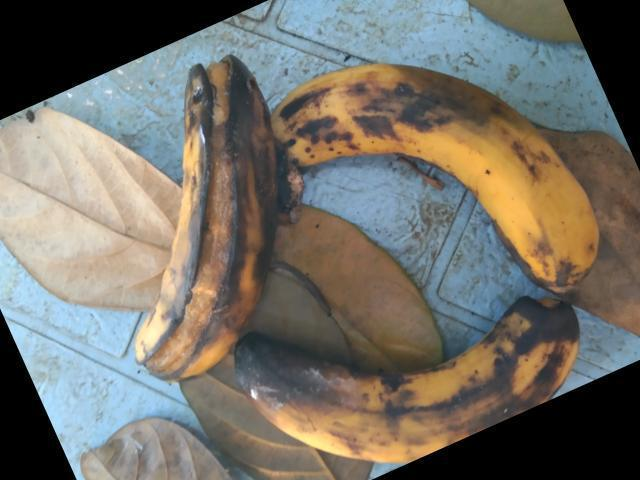overripe: (271, 53, 597, 292), (227, 289, 593, 462)
rotten: (110, 49, 281, 390)
